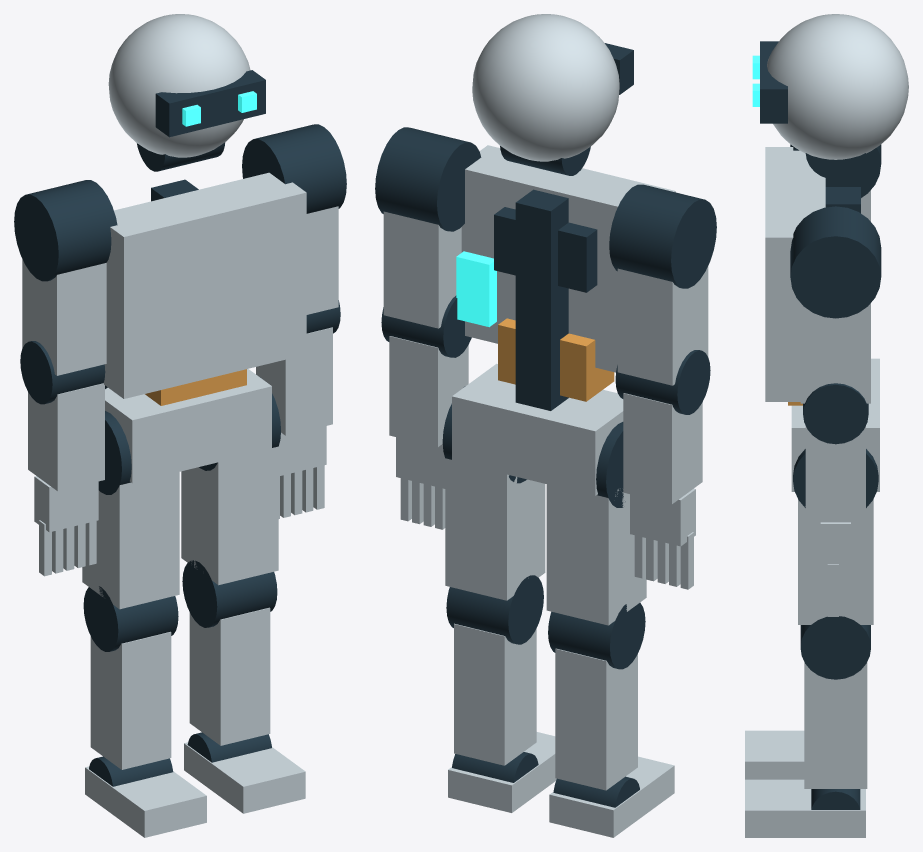
Rendered from visionicx-concept.glb.
The picture shows the model from 3 angles, left to right: view 1: azimuth 30°, elevation 25°; view 2: azimuth 150°, elevation 25°; view 3: azimuth 270°, elevation 25°; orthographic projection. The views are drawn at different scales.
Visible parts, largest first — view 1: torso_panel, head, pelvis, thigh_1, thigh_-1, lower_leg_1, lower_leg_-1, shoulder_-1, upper_arm_-1, forearm_-1, shoulder_1, foot_-1 (+16 smaller); view 2: head, torso_panel, pelvis, thigh_1, thigh_-1, lower_leg_-1, lower_leg_1, structural_frame, shoulder_-1, upper_arm_-1, shoulder_1, forearm_-1 (+19 smaller); view 3: head, torso_panel, shoulder_1, lower_leg_1, thigh_1, upper_arm_1, foot_1, forearm_1, knee_1, elbow_1, foot_-1, pelvis (+8 smaller).
Boxes of the visible parts, x1,y1,x2,y2 form: torso_panel: [103, 172, 306, 398]; head: [108, 14, 250, 157]; pelvis: [105, 369, 271, 483]; thigh_1: [181, 446, 278, 585]; thigh_-1: [82, 472, 179, 609]; lower_leg_1: [189, 607, 270, 745]; lower_leg_-1: [90, 631, 171, 769]; shoulder_-1: [14, 180, 117, 281]; upper_arm_-1: [22, 259, 106, 375]; forearm_-1: [28, 383, 104, 491]; shoulder_1: [242, 124, 346, 213]; foot_-1: [85, 766, 206, 837]; head: [472, 14, 619, 161]; torso_panel: [461, 145, 675, 372]; pelvis: [452, 363, 623, 495]; thigh_1: [445, 458, 545, 600]; thigh_-1: [546, 484, 646, 625]; lower_leg_-1: [555, 648, 637, 790]; lower_leg_1: [454, 623, 536, 765]; structural_frame: [515, 189, 568, 410]; shoulder_-1: [609, 184, 716, 288]; upper_arm_-1: [617, 266, 708, 385]; shoulder_1: [375, 127, 481, 231]; forearm_-1: [623, 393, 702, 504]; head: [767, 14, 908, 159]; torso_panel: [765, 147, 825, 401]; shoulder_1: [790, 206, 881, 318]; lower_leg_1: [804, 662, 867, 788]; thigh_1: [798, 499, 873, 624]; upper_arm_1: [800, 303, 870, 403]; foot_1: [745, 779, 865, 837]; forearm_1: [805, 426, 865, 522]; knee_1: [800, 616, 870, 679]; elbow_1: [803, 383, 868, 444]; foot_-1: [745, 730, 804, 779]; pelvis: [791, 358, 879, 491].
Bounding box in the file's own units: 1.34 × 3.4 × 0.65.
